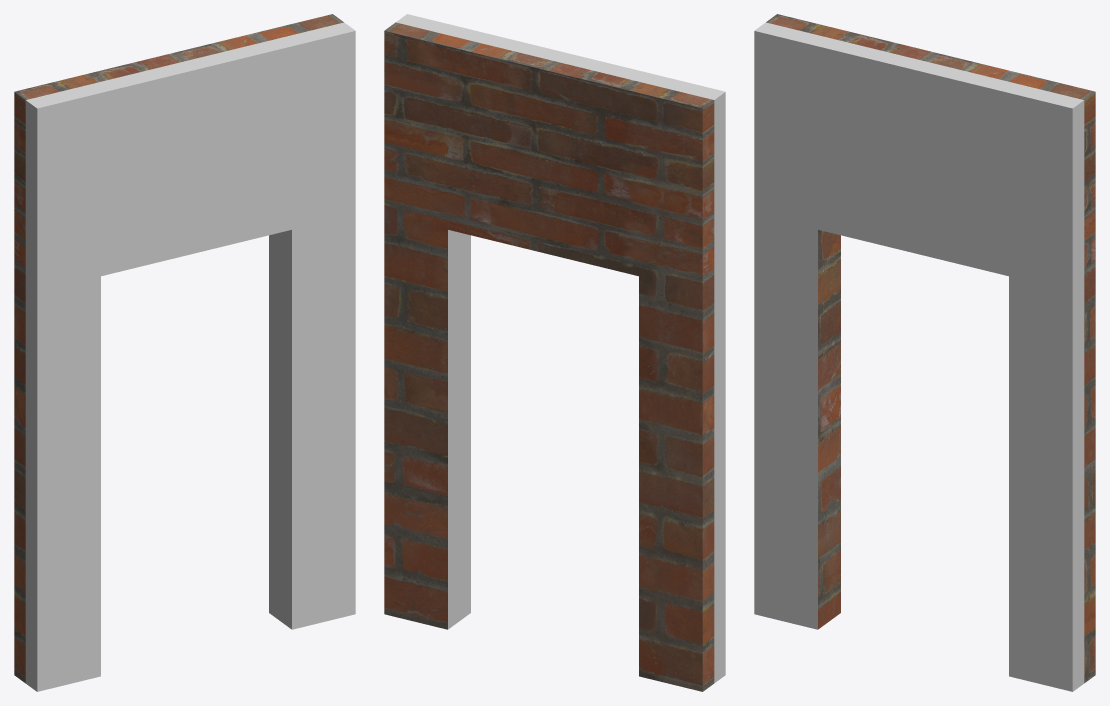
Rendered from Wall_door_hole_complete.fbx.
3 views of the same model, side by side, from view 1: azimuth 30°, elevation 25°; view 2: azimuth 150°, elevation 25°; view 3: azimuth 330°, elevation 25° (orthographic).
Parts seen in each view (by area): view 1: Wall door hole; view 2: Wall door hole; view 3: Wall door hole.
Boxes of the visible parts, left/top/right/bottom form: Wall door hole: left=14, top=14, right=355, bottom=691; Wall door hole: left=384, top=14, right=725, bottom=691; Wall door hole: left=754, top=14, right=1095, bottom=691.
Bounding box in the file's own units: 400 × 700 × 50.
